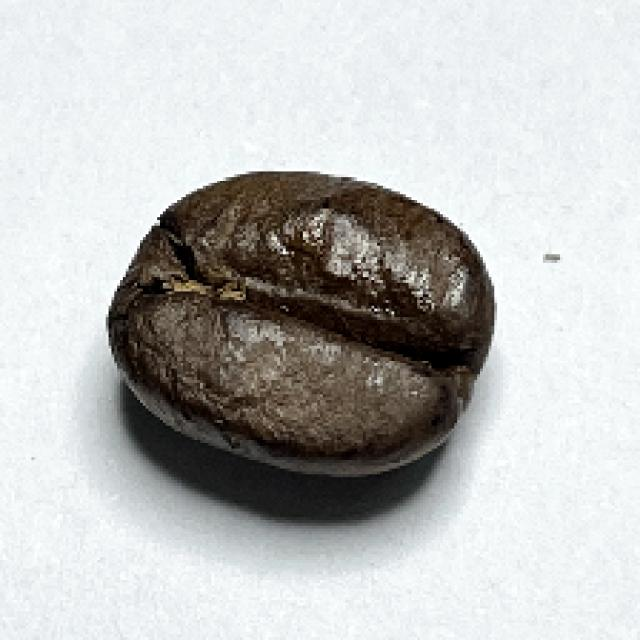bean: (106, 171, 497, 475)
